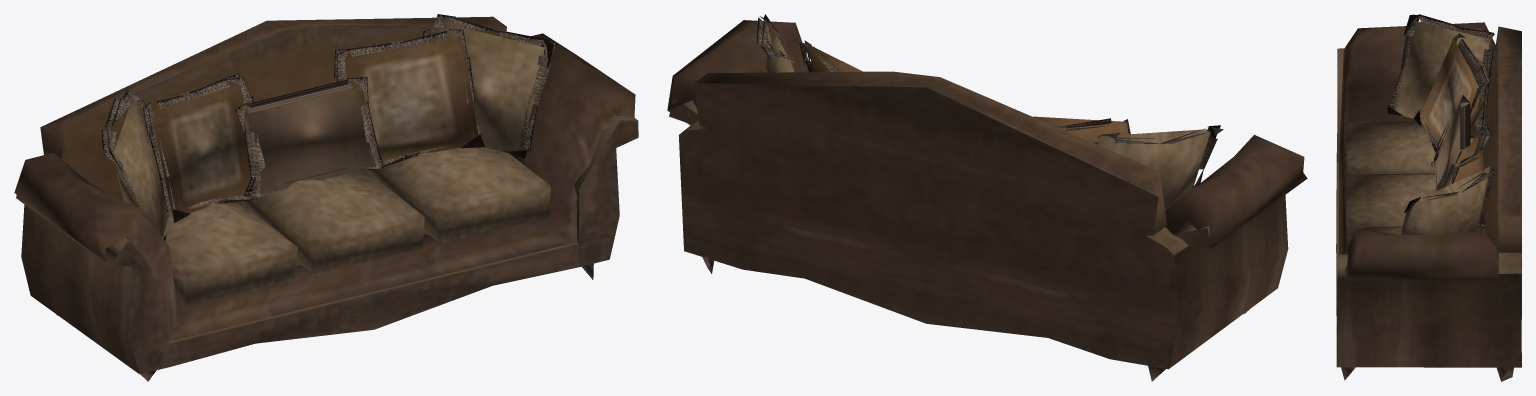
Rendered from sofa_03.glb.
3 renders of one model, left to right at view 1: azimuth 30°, elevation 25°; view 2: azimuth 150°, elevation 25°; view 3: azimuth 270°, elevation 25°, orthographic. The views are drawn at different scales.
Parts seen in each view (by area): view 1: sofa_03; view 2: sofa_03; view 3: sofa_03.
Boxes of the visible parts, x1,y1,x2,y2 form: sofa_03: [14, 14, 638, 381]; sofa_03: [667, 14, 1307, 381]; sofa_03: [1336, 14, 1521, 381].
Size of the model in its own units: 2.7 by 1.12 by 0.9171.
Materials: 2 (2 with a texture image).
